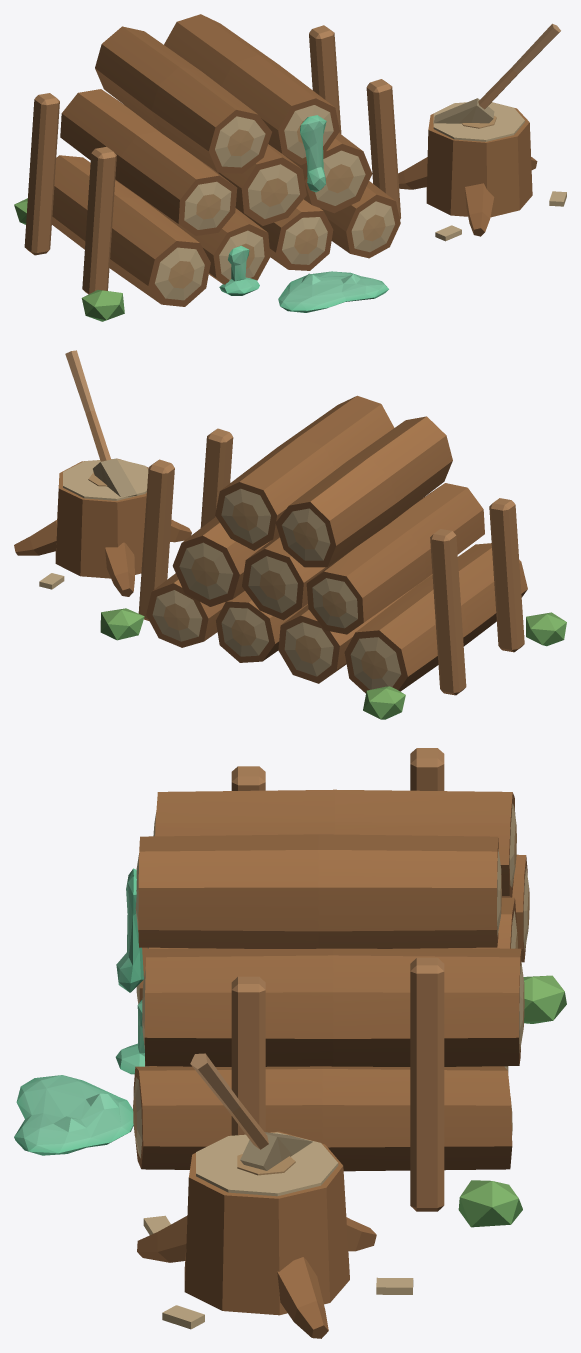
File: ranch_log_pile.fbx
3 views of the same model, one above another, from view 1: azimuth 30°, elevation 25°; view 2: azimuth 150°, elevation 25°; view 3: azimuth 270°, elevation 25° (orthographic). The views are drawn at different scales.
Visible parts, largest first — view 1: ranch_log_pile; view 2: ranch_log_pile; view 3: ranch_log_pile.
Part boxes in pixels (left/top/right/bottom): ranch_log_pile: left=14, top=14, right=566, bottom=321; ranch_log_pile: left=14, top=350, right=566, bottom=719; ranch_log_pile: left=14, top=748, right=566, bottom=1338.
Bounding box in the file's own units: 10.93 × 4.01 × 6.81.
